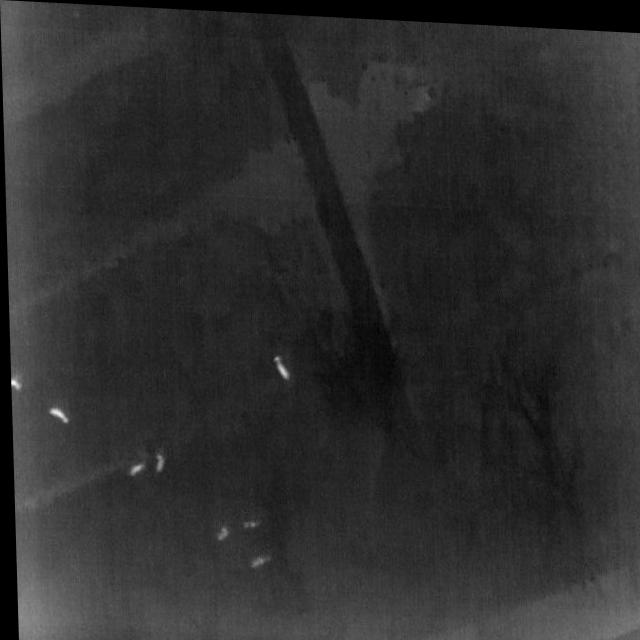deer: (272, 353, 288, 377), (245, 551, 266, 567), (46, 407, 67, 423), (126, 460, 142, 477), (152, 452, 163, 473), (212, 524, 227, 539), (240, 517, 256, 527), (9, 379, 20, 390)
